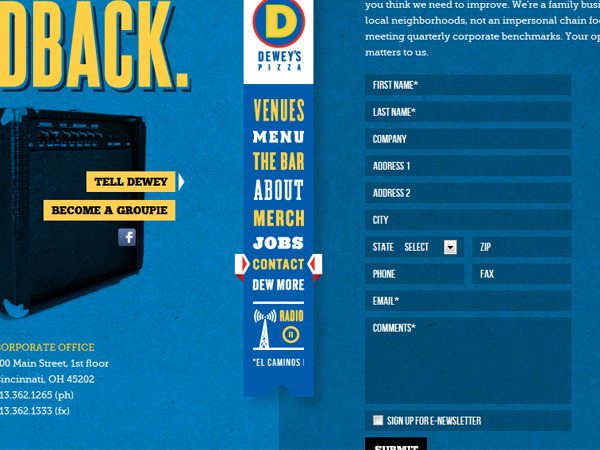_form_: (179, 32, 595, 448), (151, 15, 389, 227), (17, 111, 205, 268)
button: (42, 199, 176, 221), (85, 171, 175, 192)
checkbox: (371, 413, 482, 428)
field: (364, 316, 573, 405), (364, 73, 573, 96), (364, 101, 573, 124), (363, 127, 572, 150), (363, 155, 572, 178), (364, 181, 573, 204), (364, 208, 573, 231), (362, 290, 571, 313), (364, 235, 465, 259), (363, 263, 465, 286), (472, 235, 572, 258), (471, 263, 572, 285)
